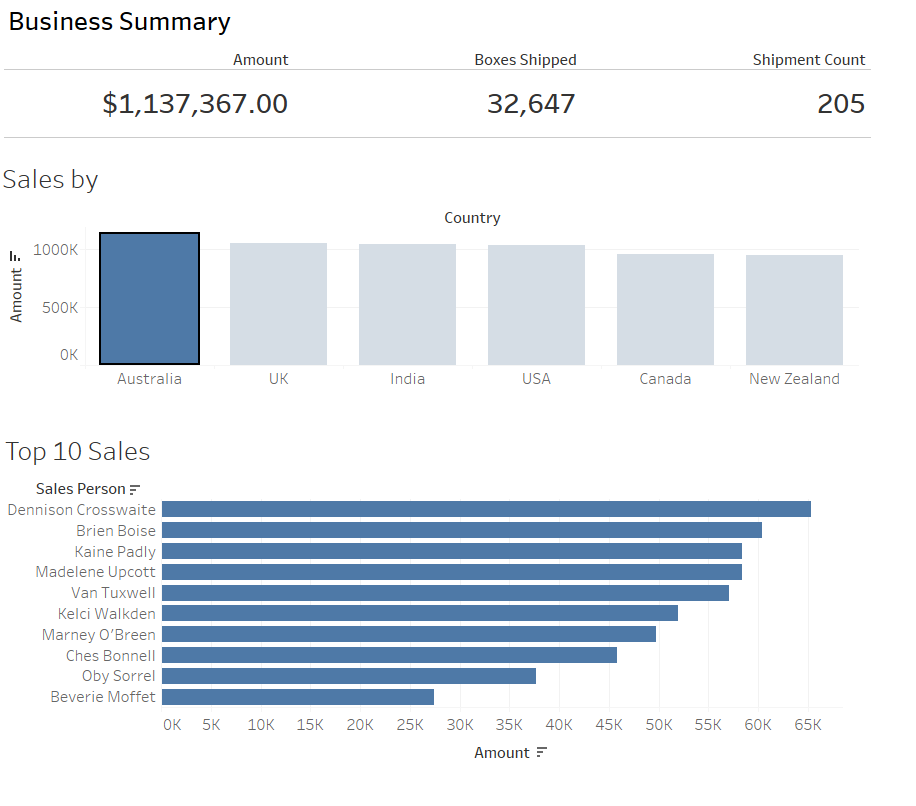

The page's visual inventory and layout, read from the dashboard file:
{"tool":"tableau","page":{"name":"Dashboard 1","canvas":[1000,1000],"units":"permille","ordinal":0},"visuals":[{"type":"worksheet","title":"Sheet 3","mark":"Automatic","box":[4.2,2.4,523.2,167.3]},{"type":"worksheet","title":"Sheet 1","mark":"Automatic","rows":["Amount"],"cols":["Country"],"box":[0.6,192.5,519.6,298.4]},{"type":"worksheet","title":"Sheet 2","mark":"Automatic","rows":["Sales Person"],"cols":["Amount"],"box":[2.4,519.9,508.2,410.4]}]}

Visuals, with their boxes on the dashboard's canvas, which has no fixed pixel size, in thousandths of its width and height (x1, y1, x2, y2). These are canvas units, not pixel positions in the 916x806 screenshot, which may show the page scaled, cropped or inside an application window:
"Sheet 3" worksheet: l=4, t=2, r=527, b=170
"Sheet 1" worksheet: l=1, t=192, r=520, b=491
"Sheet 2" worksheet: l=2, t=520, r=511, b=930
